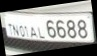character: (46, 19, 56, 38), (66, 19, 76, 38), (77, 19, 87, 38), (56, 19, 65, 38)
